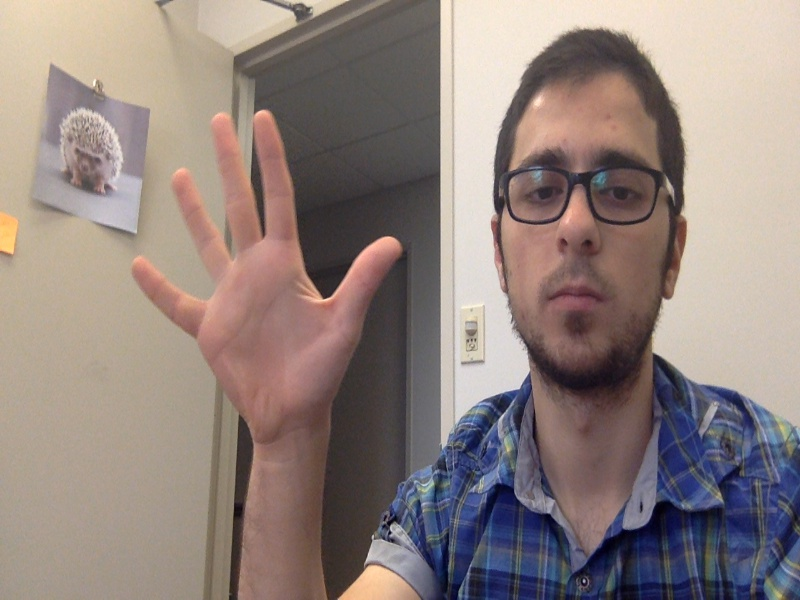5-hand: (131, 111, 401, 440)
